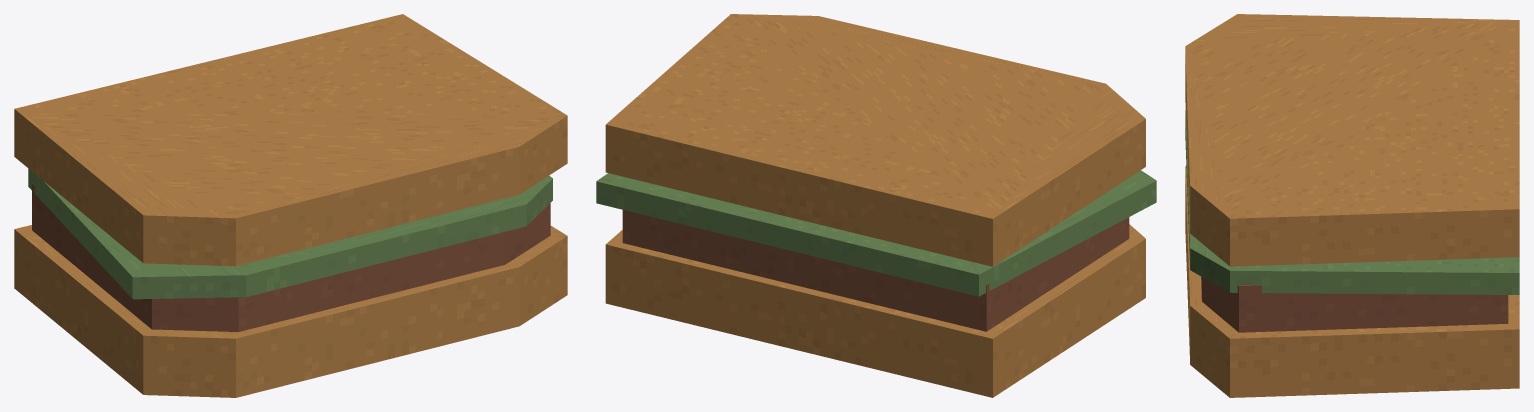
Rendered from blt.glb.
3 views of the same model, side by side, from view 1: azimuth 30°, elevation 25°; view 2: azimuth 150°, elevation 25°; view 3: azimuth 270°, elevation 25° (orthographic).
Visible parts, largest first — view 1: block_upper toast, block_bottom bread, block_lettuce, block_cooked filling; view 2: block_upper toast, block_bottom bread, block_lettuce, block_cooked filling; view 3: block_upper toast, block_bottom bread, block_lettuce, block_cooked filling.
Part boxes in pixels (<box>): block_upper toast: <box>14,14,567,266</box>; block_bottom bread: <box>14,225,567,397</box>; block_lettuce: <box>28,168,552,299</box>; block_cooked filling: <box>32,183,550,331</box>; block_upper toast: <box>605,14,1145,266</box>; block_bottom bread: <box>605,224,1145,397</box>; block_lettuce: <box>596,170,1156,296</box>; block_cooked filling: <box>622,210,1129,331</box>; block_upper toast: <box>1185,14,1519,266</box>; block_bottom bread: <box>1185,166,1519,397</box>; block_lettuce: <box>1185,110,1519,294</box>; block_cooked filling: <box>1201,276,1508,332</box>.
Bounding box in the file's own units: 0.0955 × 0.038 × 0.0643.
1 material, 1 textured.
